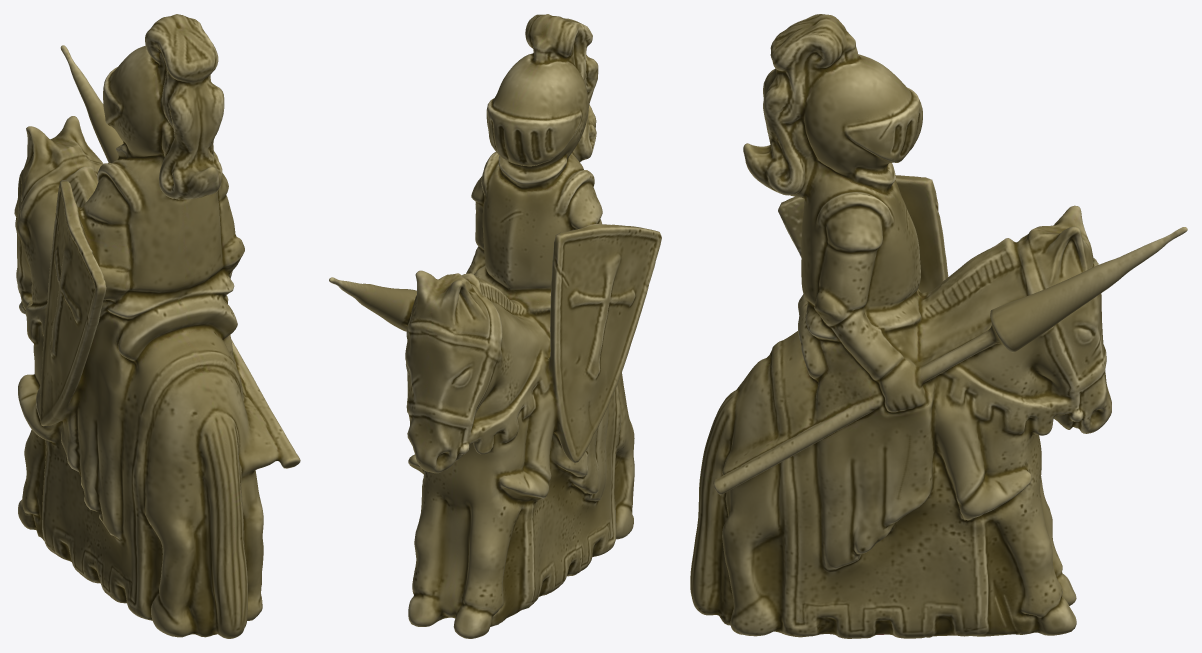
Rendered from CaballoD_scaled_4.glb.
3 views of the same model, side by side, from view 1: azimuth 30°, elevation 25°; view 2: azimuth 150°, elevation 25°; view 3: azimuth 270°, elevation 25° (orthographic). The views are drawn at different scales.
Parts seen in each view (by area): view 1: 12943_Stone_Chess_Knight_Side_A_v2_l1; view 2: 12943_Stone_Chess_Knight_Side_A_v2_l1; view 3: 12943_Stone_Chess_Knight_Side_A_v2_l1.
Boxes of the visible parts, box(x1,y1,x2,y2) form: 12943_Stone_Chess_Knight_Side_A_v2_l1: box(14, 14, 300, 638); 12943_Stone_Chess_Knight_Side_A_v2_l1: box(329, 14, 661, 638); 12943_Stone_Chess_Knight_Side_A_v2_l1: box(690, 14, 1187, 638).
Bounding box in the file's own units: 0.6209 × 1.9 × 1.42.
Materials: 1 (1 with a texture image).
